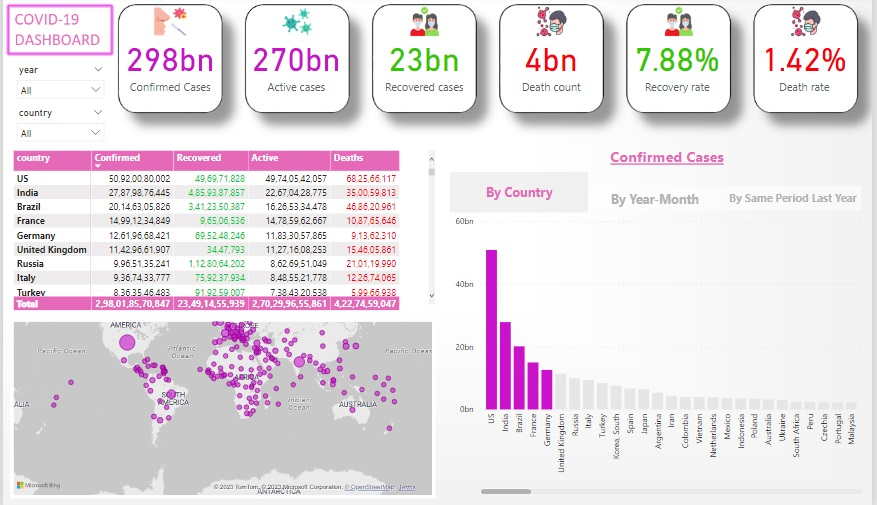

The page's visual inventory and layout, read from the dashboard file:
{"tool":"powerbi","page":{"name":"Page 1","canvas":[1280,750],"ordinal":0},"visuals":[{"type":"card","title":"Confirmed cases","fields":{"Values":["Measure Table.Cumm. Confirmed cases (Total)"]},"box":[172.7,48.7,147.6,97.4],"z":0},{"type":"card","title":"Active cases","fields":{"Values":["Measure Table.Active cases (Total)"]},"box":[358.8,48.7,147.6,97.4],"z":1000},{"type":"card","title":"Fatality count","fields":{"Values":["Measure Table.Fatality count (Total)"]},"box":[733.8,48.7,147.6,97.4],"z":2000},{"type":"card","title":"Recovered cases","fields":{"Values":["Measure Table.Recovered cases (Total)"]},"box":[546.3,48.7,147.6,97.4],"z":3000},{"type":"card","title":"Fatality rate","fields":{"Values":["Measure Table.Fatality rate"]},"box":[1107.3,48.7,147.6,97.4],"z":4000},{"type":"card","title":"Recovery rate","fields":{"Values":["Measure Table.Recovery rate"]},"box":[919.8,48.7,147.6,97.4],"z":5000},{"type":"pivotTable","fields":{"Rows":["country_names.country"],"Values":["Measure Table.Cumm. Confirmed cases (Total)","Measure Table.Cumm. Recovered cases (Total)","Measure Table.Active cases (Total)","Measure Table.Cumm. Fatality count (Total)"]},"box":[10.3,221,630.6,246.1],"z":6000},{"type":"textbox","box":[878.4,215.6,200.8,42.8],"z":7000},{"type":"map","fields":{"Category":["country_names.country"],"Size":["Measure Table.Cumm. Confirmed cases (Total)"]},"box":[10.3,472.4,627.5,265.7],"z":8000},{"type":"actionButton","title":"UnselectedByYearMonth","box":[859.3,278.5,203,37],"z":9000},{"type":"actionButton","title":"UnselectedSamePeriod","box":[1062.2,278.5,203,35.6],"z":10000},{"type":"actionButton","title":"SelectedByCountry","box":[659.1,258,204.1,59.5],"z":14000},{"type":"columnChart","title":"By country viz","fields":{"Category":["country_names.country"],"Y":["Measure Table.Cumm. Confirmed cases (Total)"]},"box":[661.4,317.4,609.7,420.8],"z":15000},{"type":"slicer","fields":{"Values":["calendar table.year"]},"box":[10.3,94.5,149.1,63.5],"z":18000},{"type":"slicer","fields":{"Values":["country_names.country"]},"box":[10.3,157.7,148.8,63.4],"z":19000}]}

Visuals, with their boxes in screenshot pixels (x1, y1, x2, y2), scaled from the page's 1280x750 canvas onto the 877x505 screenshot:
"Confirmed cases" card: <box>118,33,219,98</box>
"Active cases" card: <box>246,33,347,98</box>
"Fatality count" card: <box>503,33,604,98</box>
"Recovered cases" card: <box>374,33,475,98</box>
"Fatality rate" card: <box>759,33,860,98</box>
"Recovery rate" card: <box>630,33,731,98</box>
pivotTable - country_names.country x Measure Table.Cumm. Confirmed cases (Total): <box>7,149,439,315</box>
textbox: <box>602,145,739,174</box>
map - country_names.country x Measure Table.Cumm. Confirmed cases (Total): <box>7,318,437,497</box>
"UnselectedByYearMonth" actionButton: <box>589,188,728,212</box>
"UnselectedSamePeriod" actionButton: <box>728,188,867,211</box>
"SelectedByCountry" actionButton: <box>452,174,591,214</box>
"By country viz" columnChart: <box>453,214,871,497</box>
slicer - calendar table.year: <box>7,64,109,106</box>
slicer - country_names.country: <box>7,106,109,149</box>
